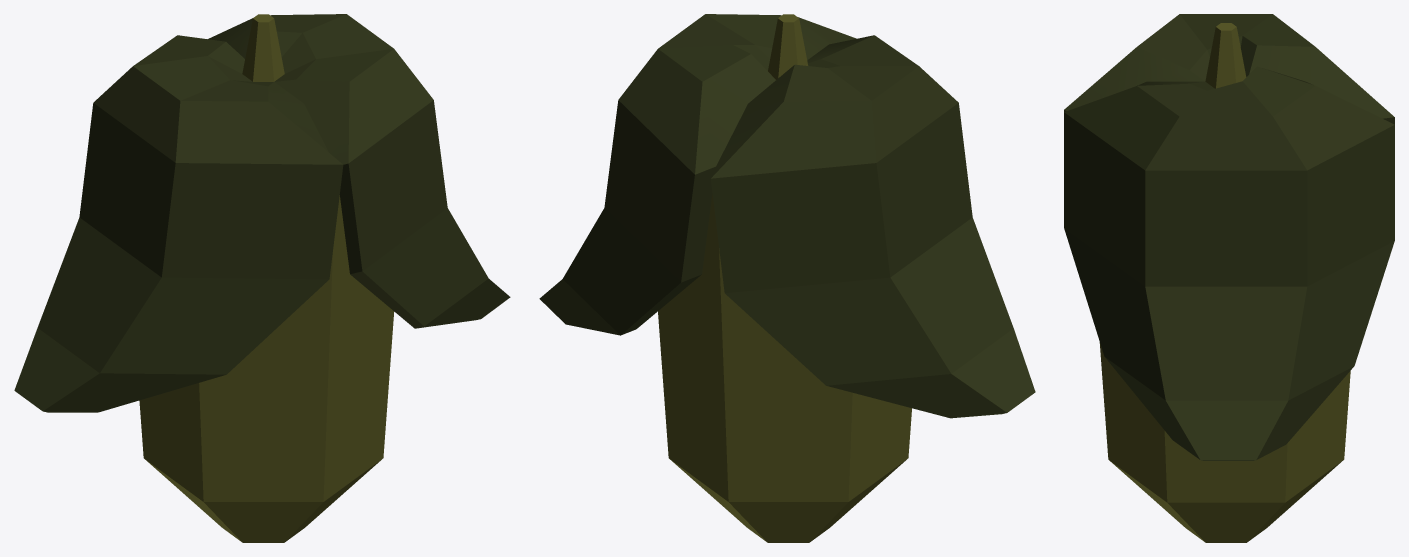
3 views of the same model, side by side, from view 1: azimuth 30°, elevation 25°; view 2: azimuth 150°, elevation 25°; view 3: azimuth 270°, elevation 25° (orthographic).
Parts seen in each view (by area): view 1: 玉米_pCylinder7; view 2: 玉米_pCylinder7; view 3: 玉米_pCylinder7.
Part boxes in pixels (box(x1,y1,x2,y2)): 玉米_pCylinder7: box(14, 14, 510, 542); 玉米_pCylinder7: box(539, 14, 1035, 542); 玉米_pCylinder7: box(1064, 14, 1394, 542).
Bounding box in the file's own units: 23.2 × 14.43 × 24.14.
